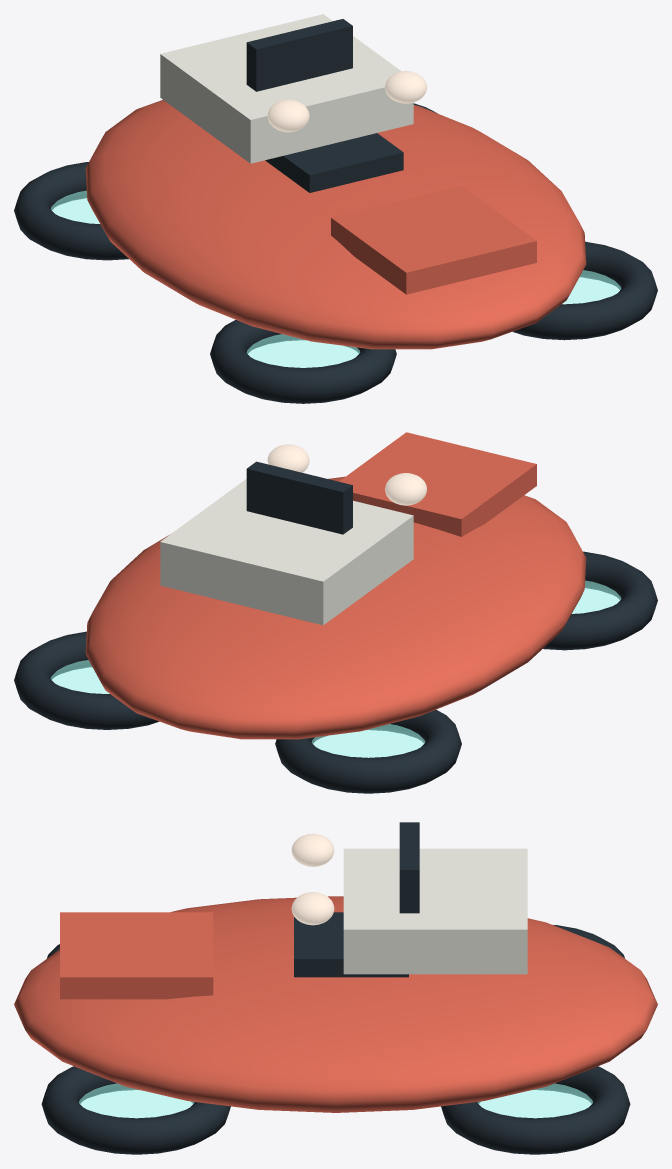
File: rescue-hover.glb
3 views of the same model, one above another, from view 1: azimuth 30°, elevation 25°; view 2: azimuth 150°, elevation 25°; view 3: azimuth 270°, elevation 25° (orthographic).
Parts seen in each view (by area): view 1: rescue-hover; view 2: rescue-hover; view 3: rescue-hover.
Part boxes in pixels (x1,y1,x2,y2): rescue-hover: [14, 14, 657, 403]; rescue-hover: [14, 432, 657, 793]; rescue-hover: [14, 822, 657, 1154].
Size of the model in its own units: 3.24 by 1.5 by 4.2.
